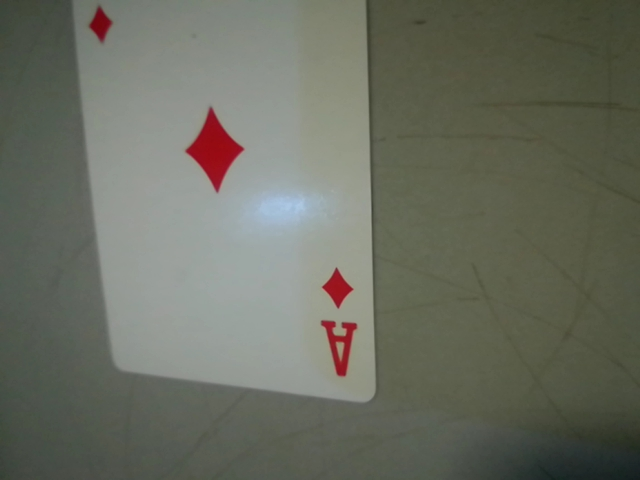fk a: (305, 257, 369, 393)
